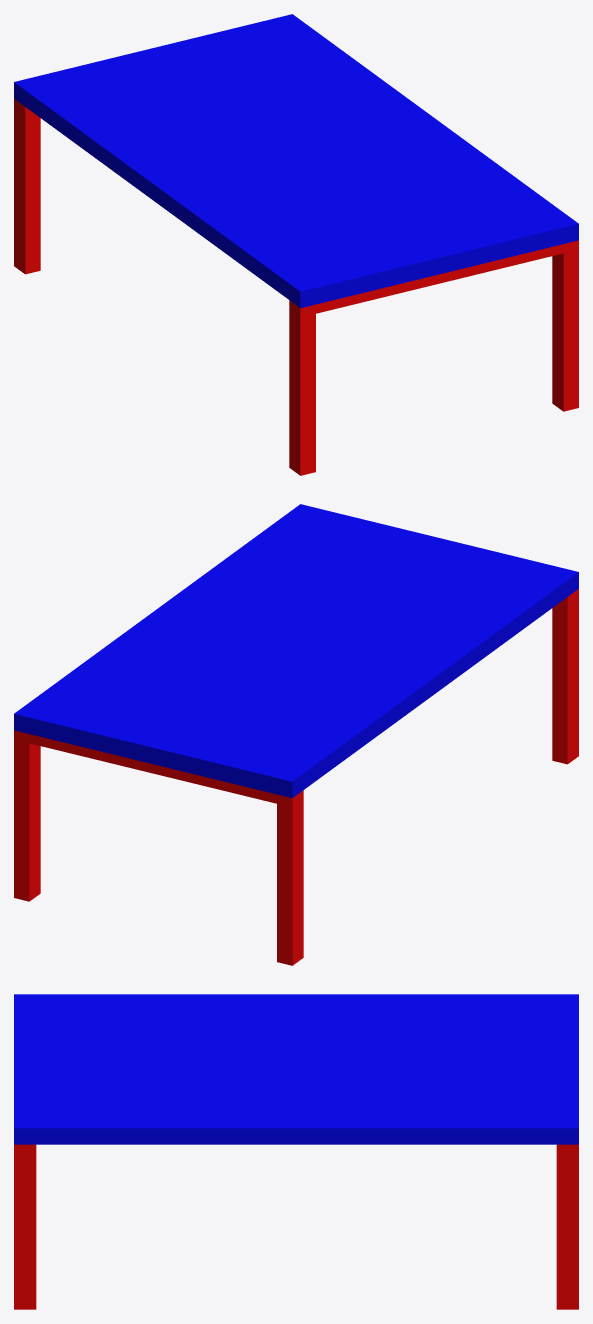
Rendered from MetalTable.fbx.
3 views of the same model, one above another, from view 1: azimuth 30°, elevation 25°; view 2: azimuth 150°, elevation 25°; view 3: azimuth 270°, elevation 25° (orthographic).
Visible parts, largest first — view 1: Cube.001; view 2: Cube.001; view 3: Cube.001.
Part boxes in pixels (x1=…): Cube.001: x1=14, y1=14, x2=578, y2=475; Cube.001: x1=14, y1=504, x2=578, y2=965; Cube.001: x1=14, y1=994, x2=578, y2=1309.
Bounding box in the file's own units: 225 × 126 × 79.67.
